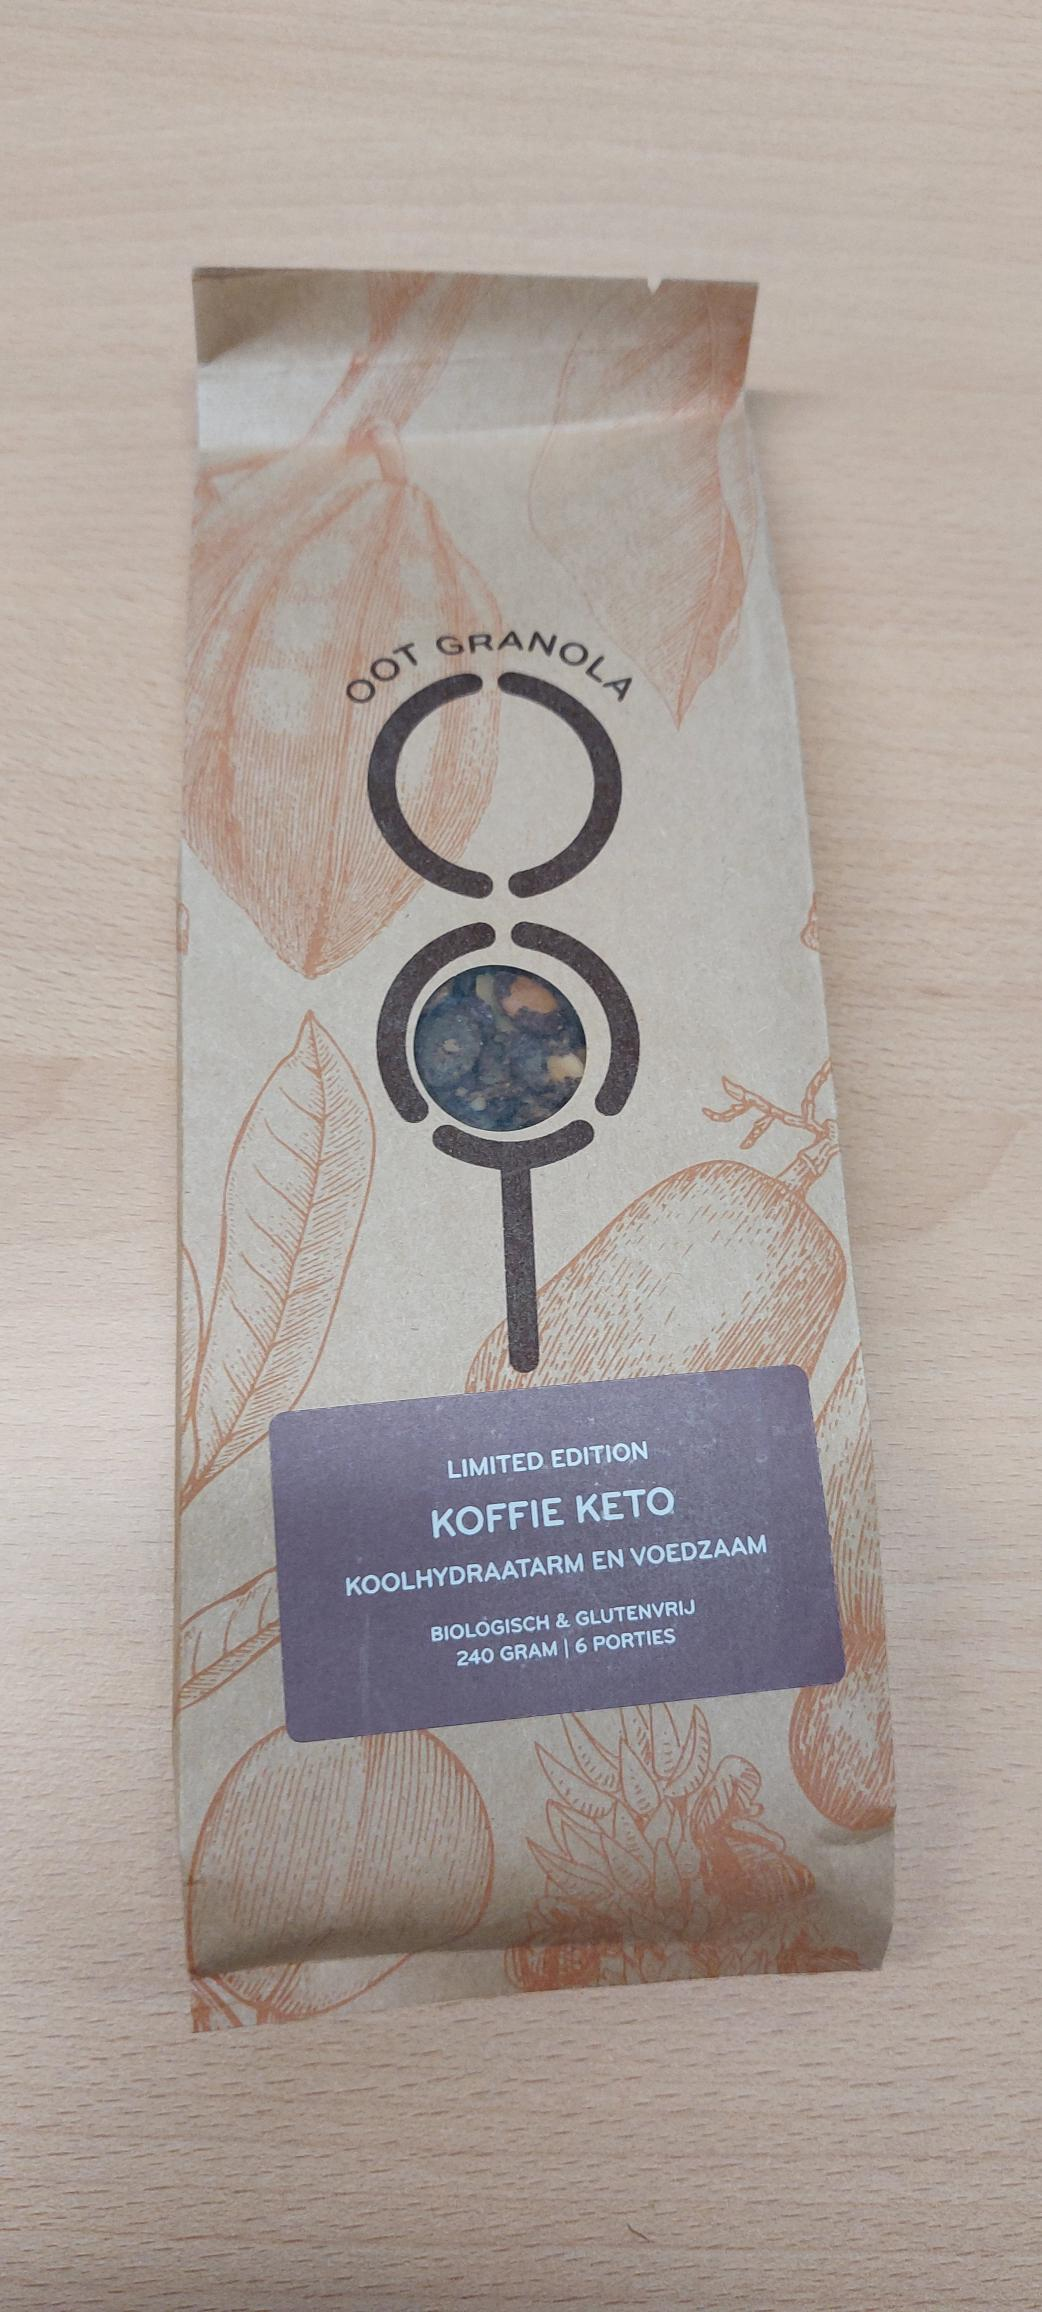KoffieKeto: (262, 1387, 833, 1724)
